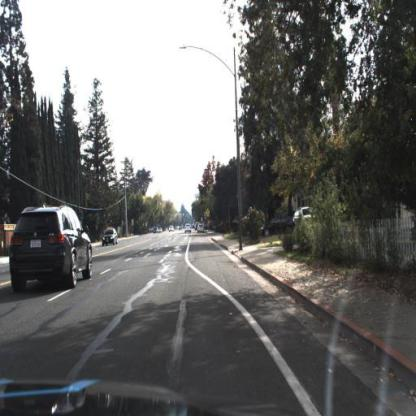car: (7, 198, 95, 294), (291, 206, 337, 236), (259, 213, 295, 243), (183, 221, 194, 236), (196, 223, 207, 235)
